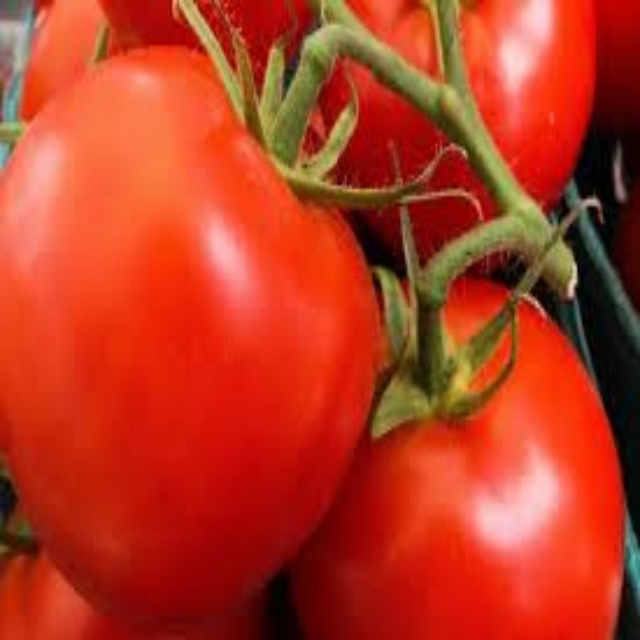tomato: (4, 51, 377, 607), (312, 264, 626, 633), (296, 7, 601, 244)
